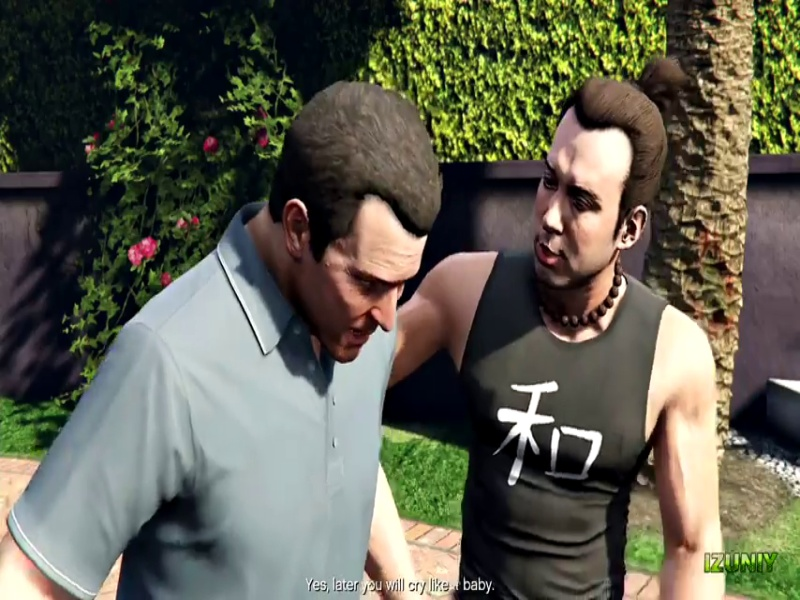licenseplate: (483, 0, 600, 73)
